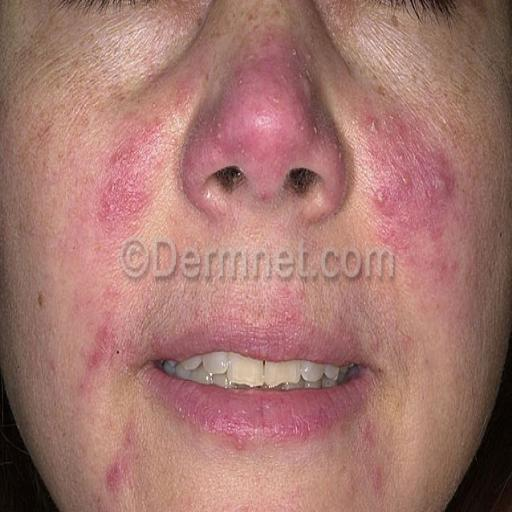Skin_Lesion: (85, 118, 160, 242), (423, 155, 458, 216), (84, 320, 118, 372), (363, 174, 400, 220), (378, 228, 421, 260), (104, 453, 126, 491), (359, 118, 390, 144), (370, 460, 388, 494), (33, 289, 54, 314), (74, 370, 90, 397)
